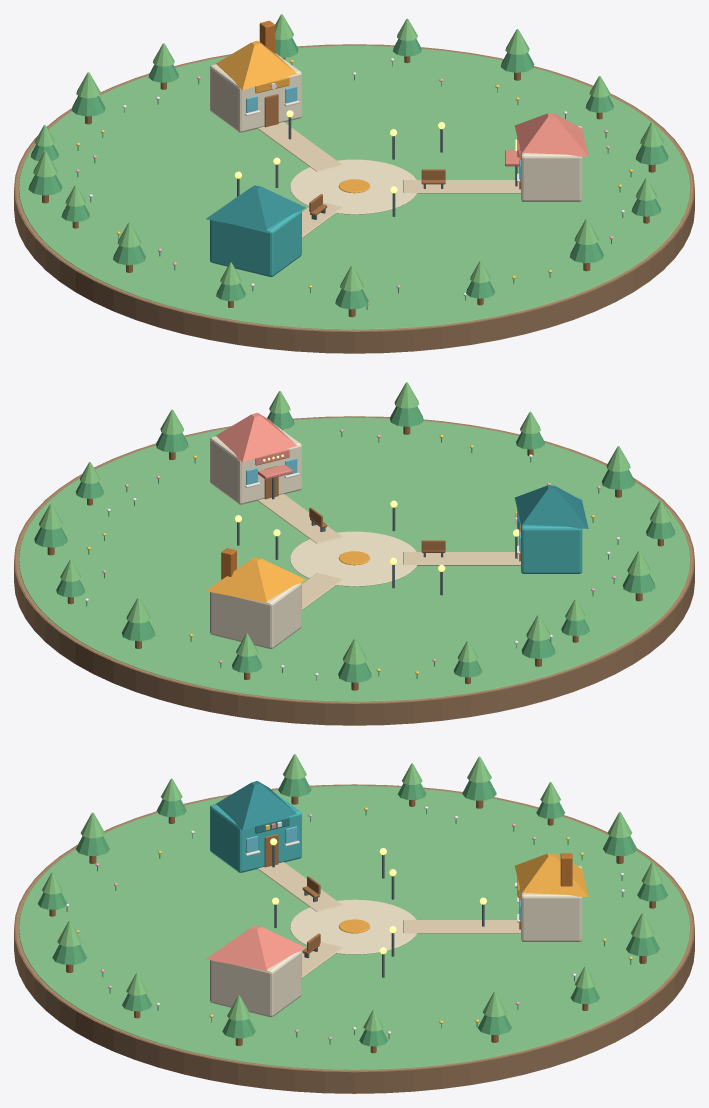
File: town-base.glb
3 views of the same model, one above another, from view 1: azimuth 30°, elevation 25°; view 2: azimuth 150°, elevation 25°; view 3: azimuth 270°, elevation 25° (orthographic).
Visible parts, largest first — view 1: Island.Grass, Island.Soil, Plaza, Library.Body, Island.SoilEdge, Workshop.Body, Cinema.Body, Library.Roof, Cinema.Roof, Workshop.Roof, Road.Workshop, Road.Cinema (+8 smaller); view 2: Island.Grass, Island.Soil, Plaza, Workshop.Body, Island.SoilEdge, Cinema.Body, Library.Body, Workshop.Roof, Library.Roof, Cinema.Roof, Road.Library, Road.Cinema (+7 smaller); view 3: Island.Grass, Island.Soil, Plaza, Cinema.Body, Island.SoilEdge, Library.Body, Workshop.Body, Cinema.Roof, Library.Roof, Workshop.Roof, Road.Workshop, Road.Library (+8 smaller).
Boxes of the visible parts, x1,y1,x2,y2 form: Island.Grass: (19,45,689,329); Island.Soil: (14,44,694,353); Plaza: (290,159,416,214); Library.Body: (210,195,301,276); Island.SoilEdge: (15,44,693,331); Workshop.Body: (210,53,301,132); Cinema.Body: (521,126,582,201); Library.Roof: (205,185,305,230); Cinema.Roof: (515,113,588,156); Workshop.Roof: (215,40,296,90); Road.Workshop: (258,122,342,171); Road.Cinema: (403,180,520,193); Island.Grass: (19,417,689,701); Island.Soil: (14,416,694,725); Plaza: (290,531,416,586); Workshop.Body: (210,567,301,648); Island.SoilEdge: (15,416,693,703); Cinema.Body: (210,424,301,504); Library.Body: (521,498,582,573); Workshop.Roof: (205,557,305,602); Library.Roof: (515,485,588,528); Cinema.Roof: (215,412,296,462); Road.Library: (403,552,520,565); Road.Cinema: (258,494,342,543); Island.Grass: (19,786,689,1069); Island.Soil: (14,784,694,1093); Plaza: (290,899,416,954); Cinema.Body: (210,936,301,1017); Island.SoilEdge: (15,785,693,1071); Library.Body: (210,792,301,872); Workshop.Body: (521,866,582,941); Cinema.Roof: (206,925,305,970); Library.Roof: (215,781,296,830); Workshop.Roof: (515,853,588,896); Road.Workshop: (403,920,520,933); Road.Library: (258,862,342,911).
Bounding box in the file's own units: 35.4 × 5.95 × 35.4.
